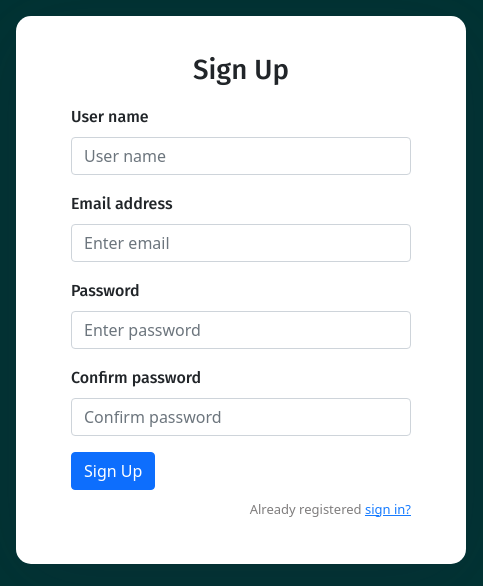
Test: SignUp Test › 登録失敗失敗パターンのテスト(Email重複)
In the field with placeholder "User name": (241, 156) top-left (71, 137), bottom-right (411, 175), type "test"
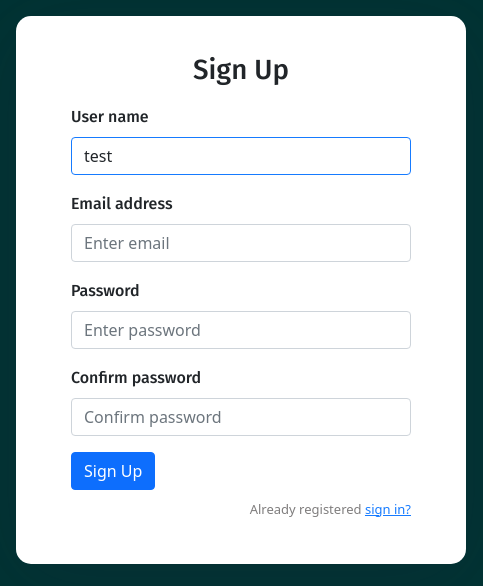
In the field with placeholder "Enter email": (241, 243) top-left (71, 224), bottom-right (411, 262), type "test@test.com"
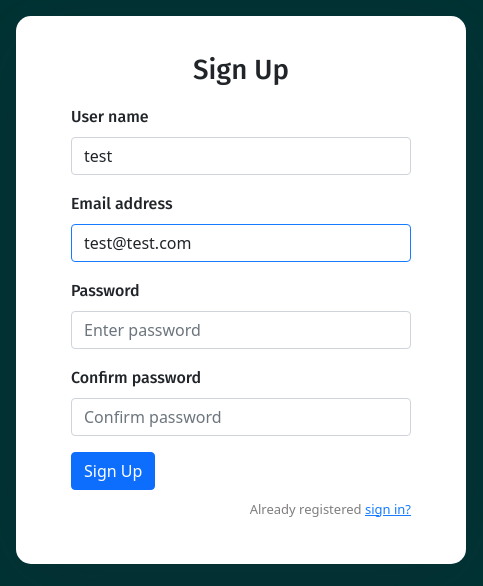
In the password field with placeholder "Enter password": (241, 330) top-left (71, 311), bottom-right (411, 349), type "12345678Aa"
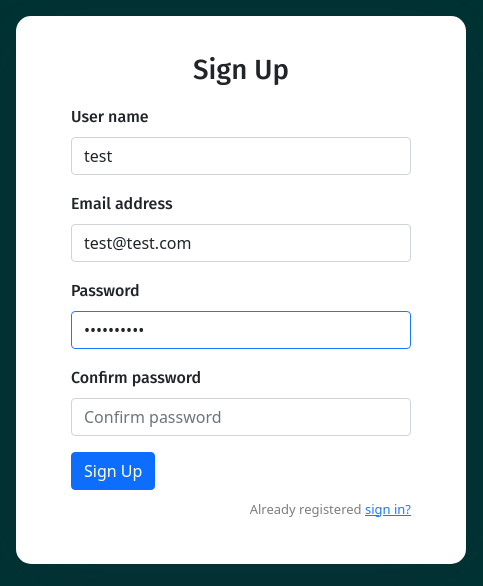
In the password field with placeholder "Confirm password": (241, 417) top-left (71, 398), bottom-right (411, 436), type "12345678Aa"
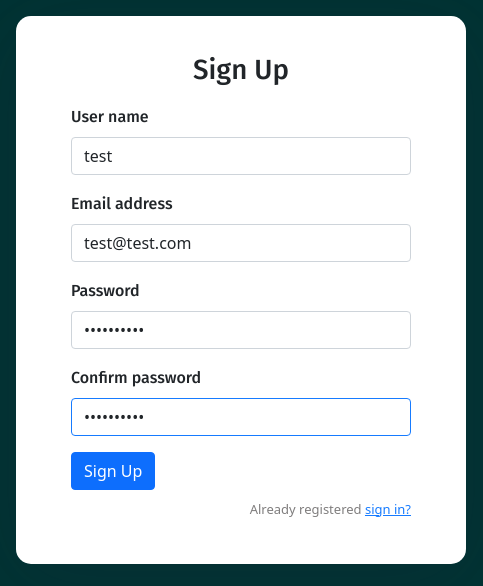
Click the button with test id "signup-btn": (113, 471) top-left (71, 452), bottom-right (155, 490)
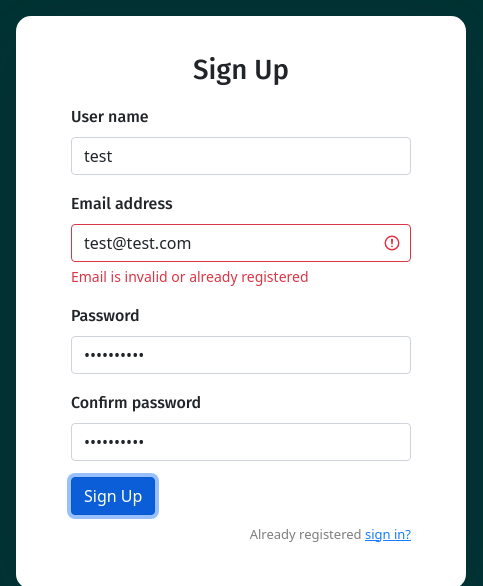
Expected: the text "Email is invalid or already registered" is shown, top-left (71, 267), bottom-right (308, 286)
